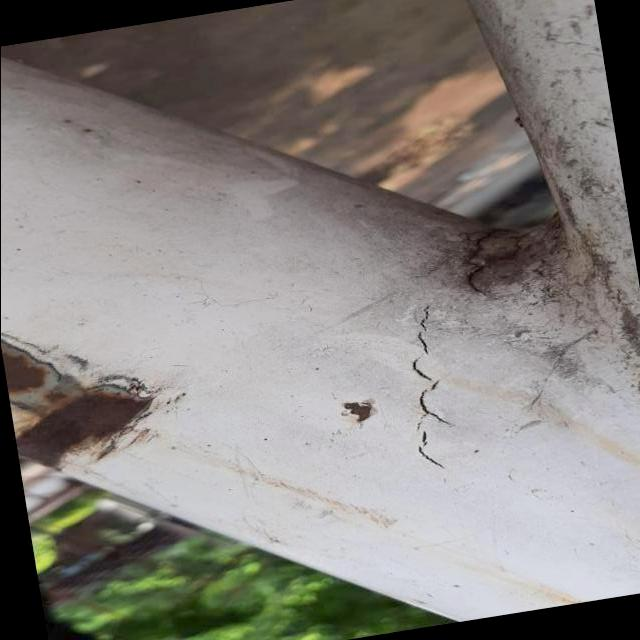defect: (405, 303, 452, 476)
